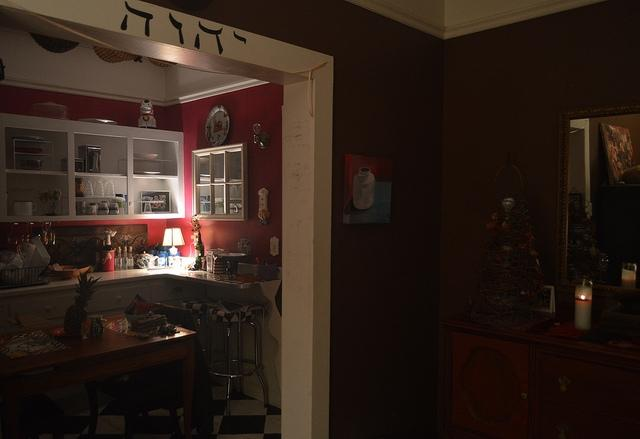pineapple: (64, 270, 102, 334)
